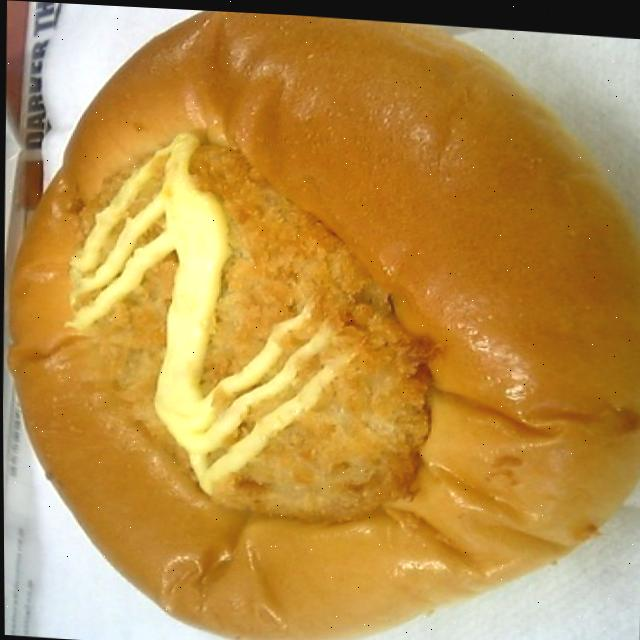三明治: (0, 7, 640, 640)
